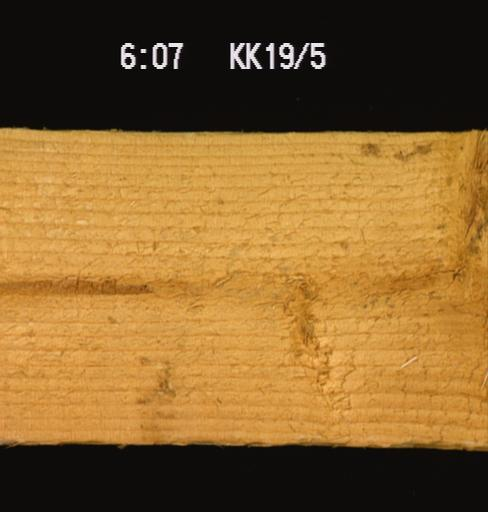small_knot: (281, 268, 322, 306)
